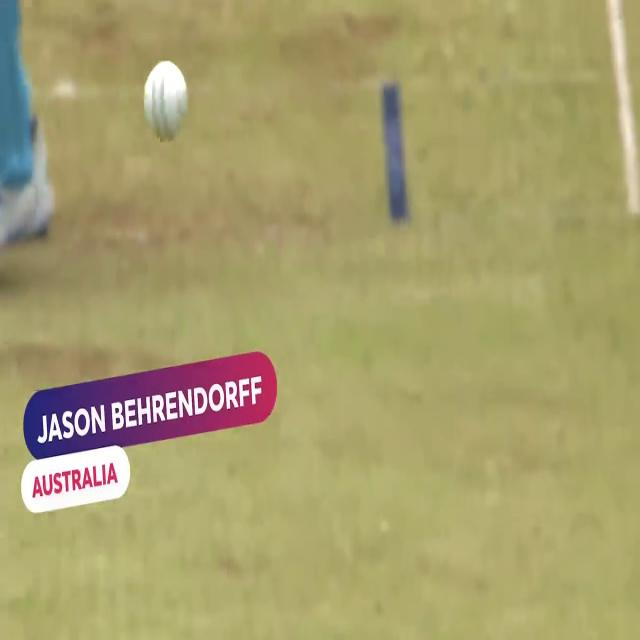ball: (133, 46, 207, 156)
